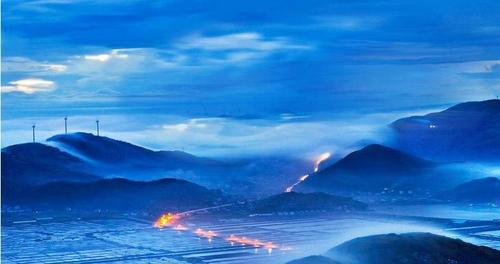sea_river: (9, 172, 486, 246)
sky_cloud: (1, 6, 500, 108), (0, 130, 500, 218), (0, 2, 500, 53)
